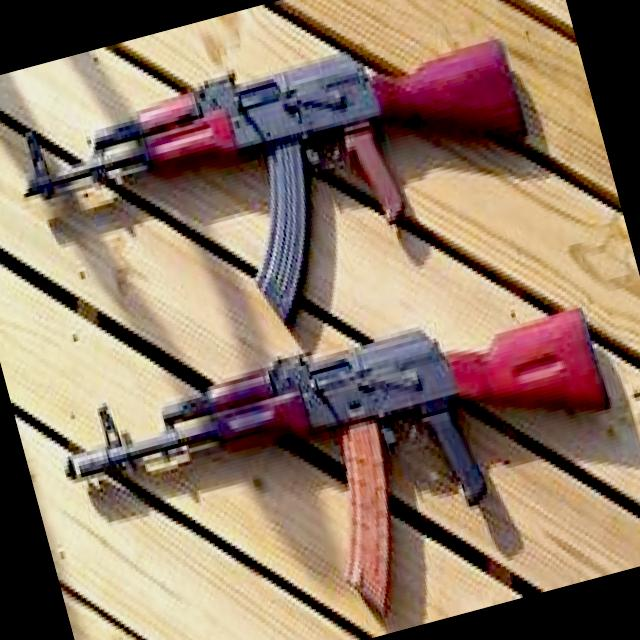ak: (43, 267, 640, 640)
